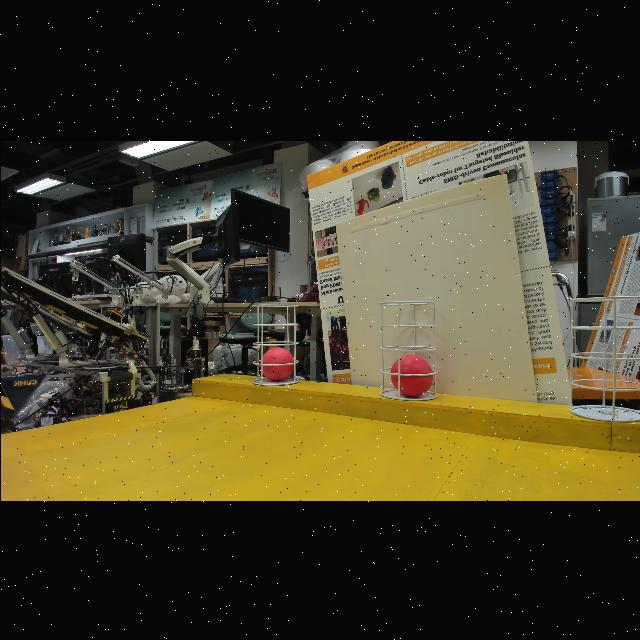R: (388, 352, 434, 398), (258, 346, 296, 382)
S: (566, 290, 640, 426), (378, 297, 438, 403), (252, 303, 300, 385)
